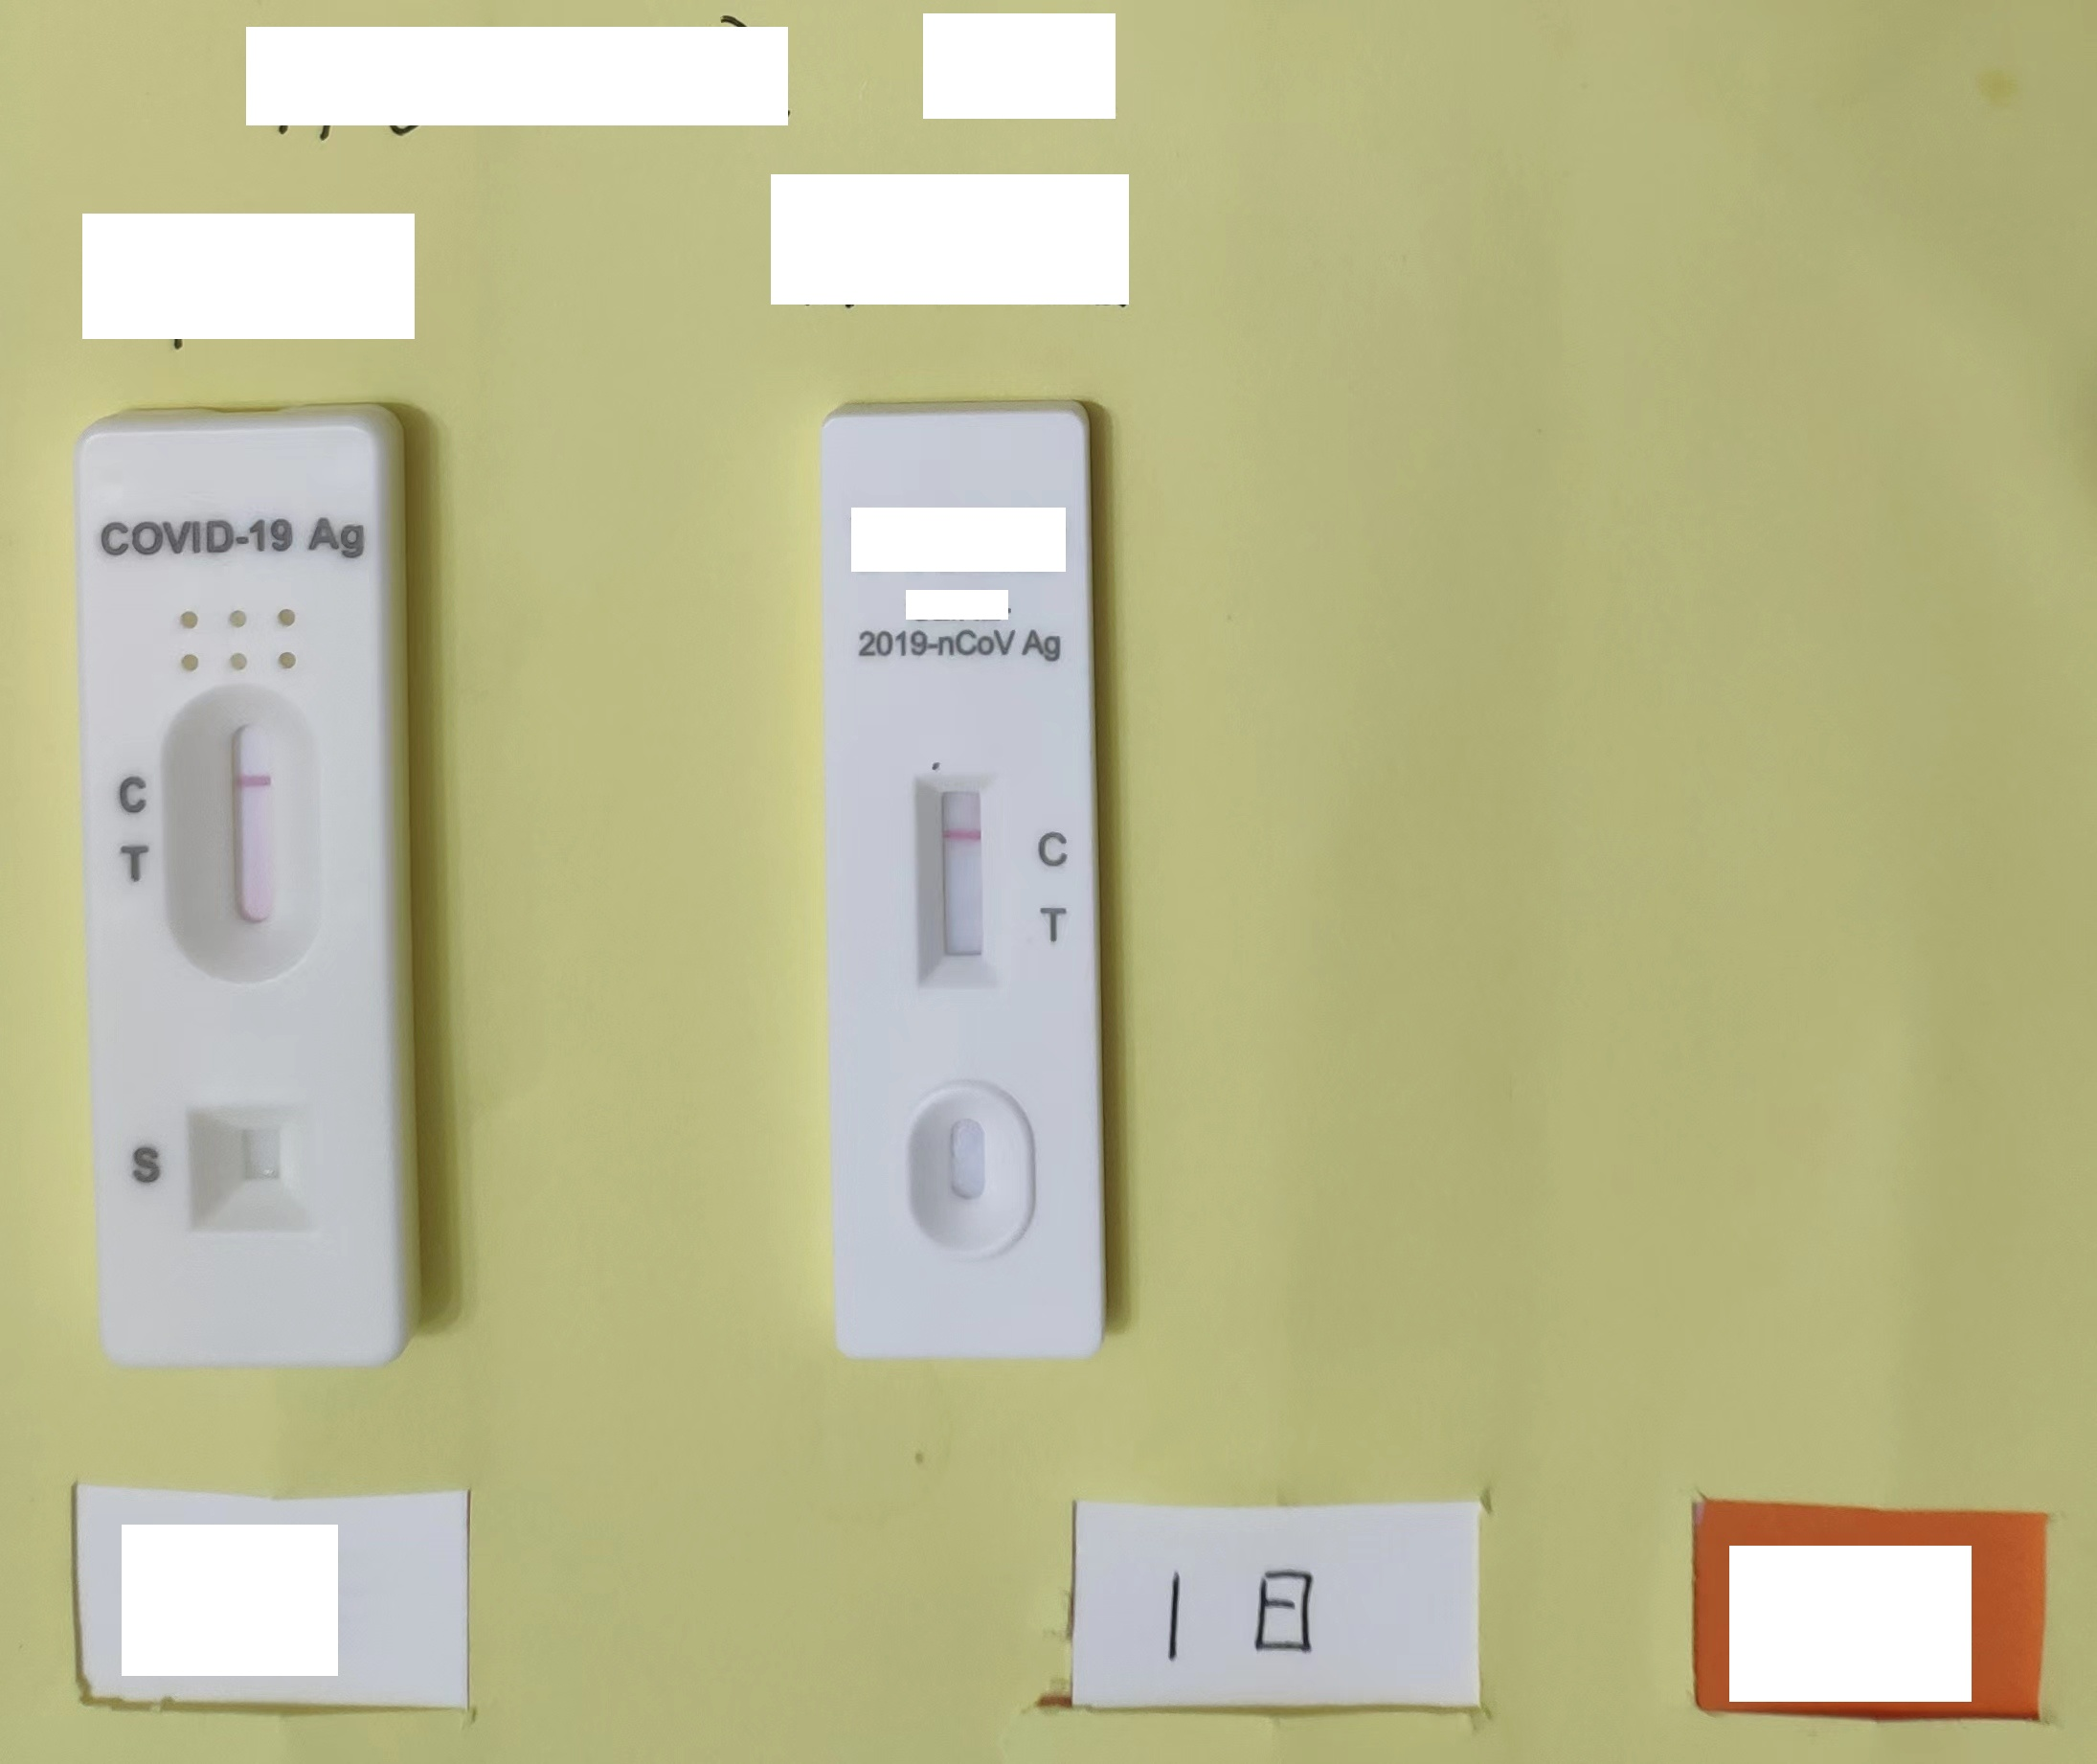negative: (168, 691, 311, 975), (909, 772, 997, 982)
